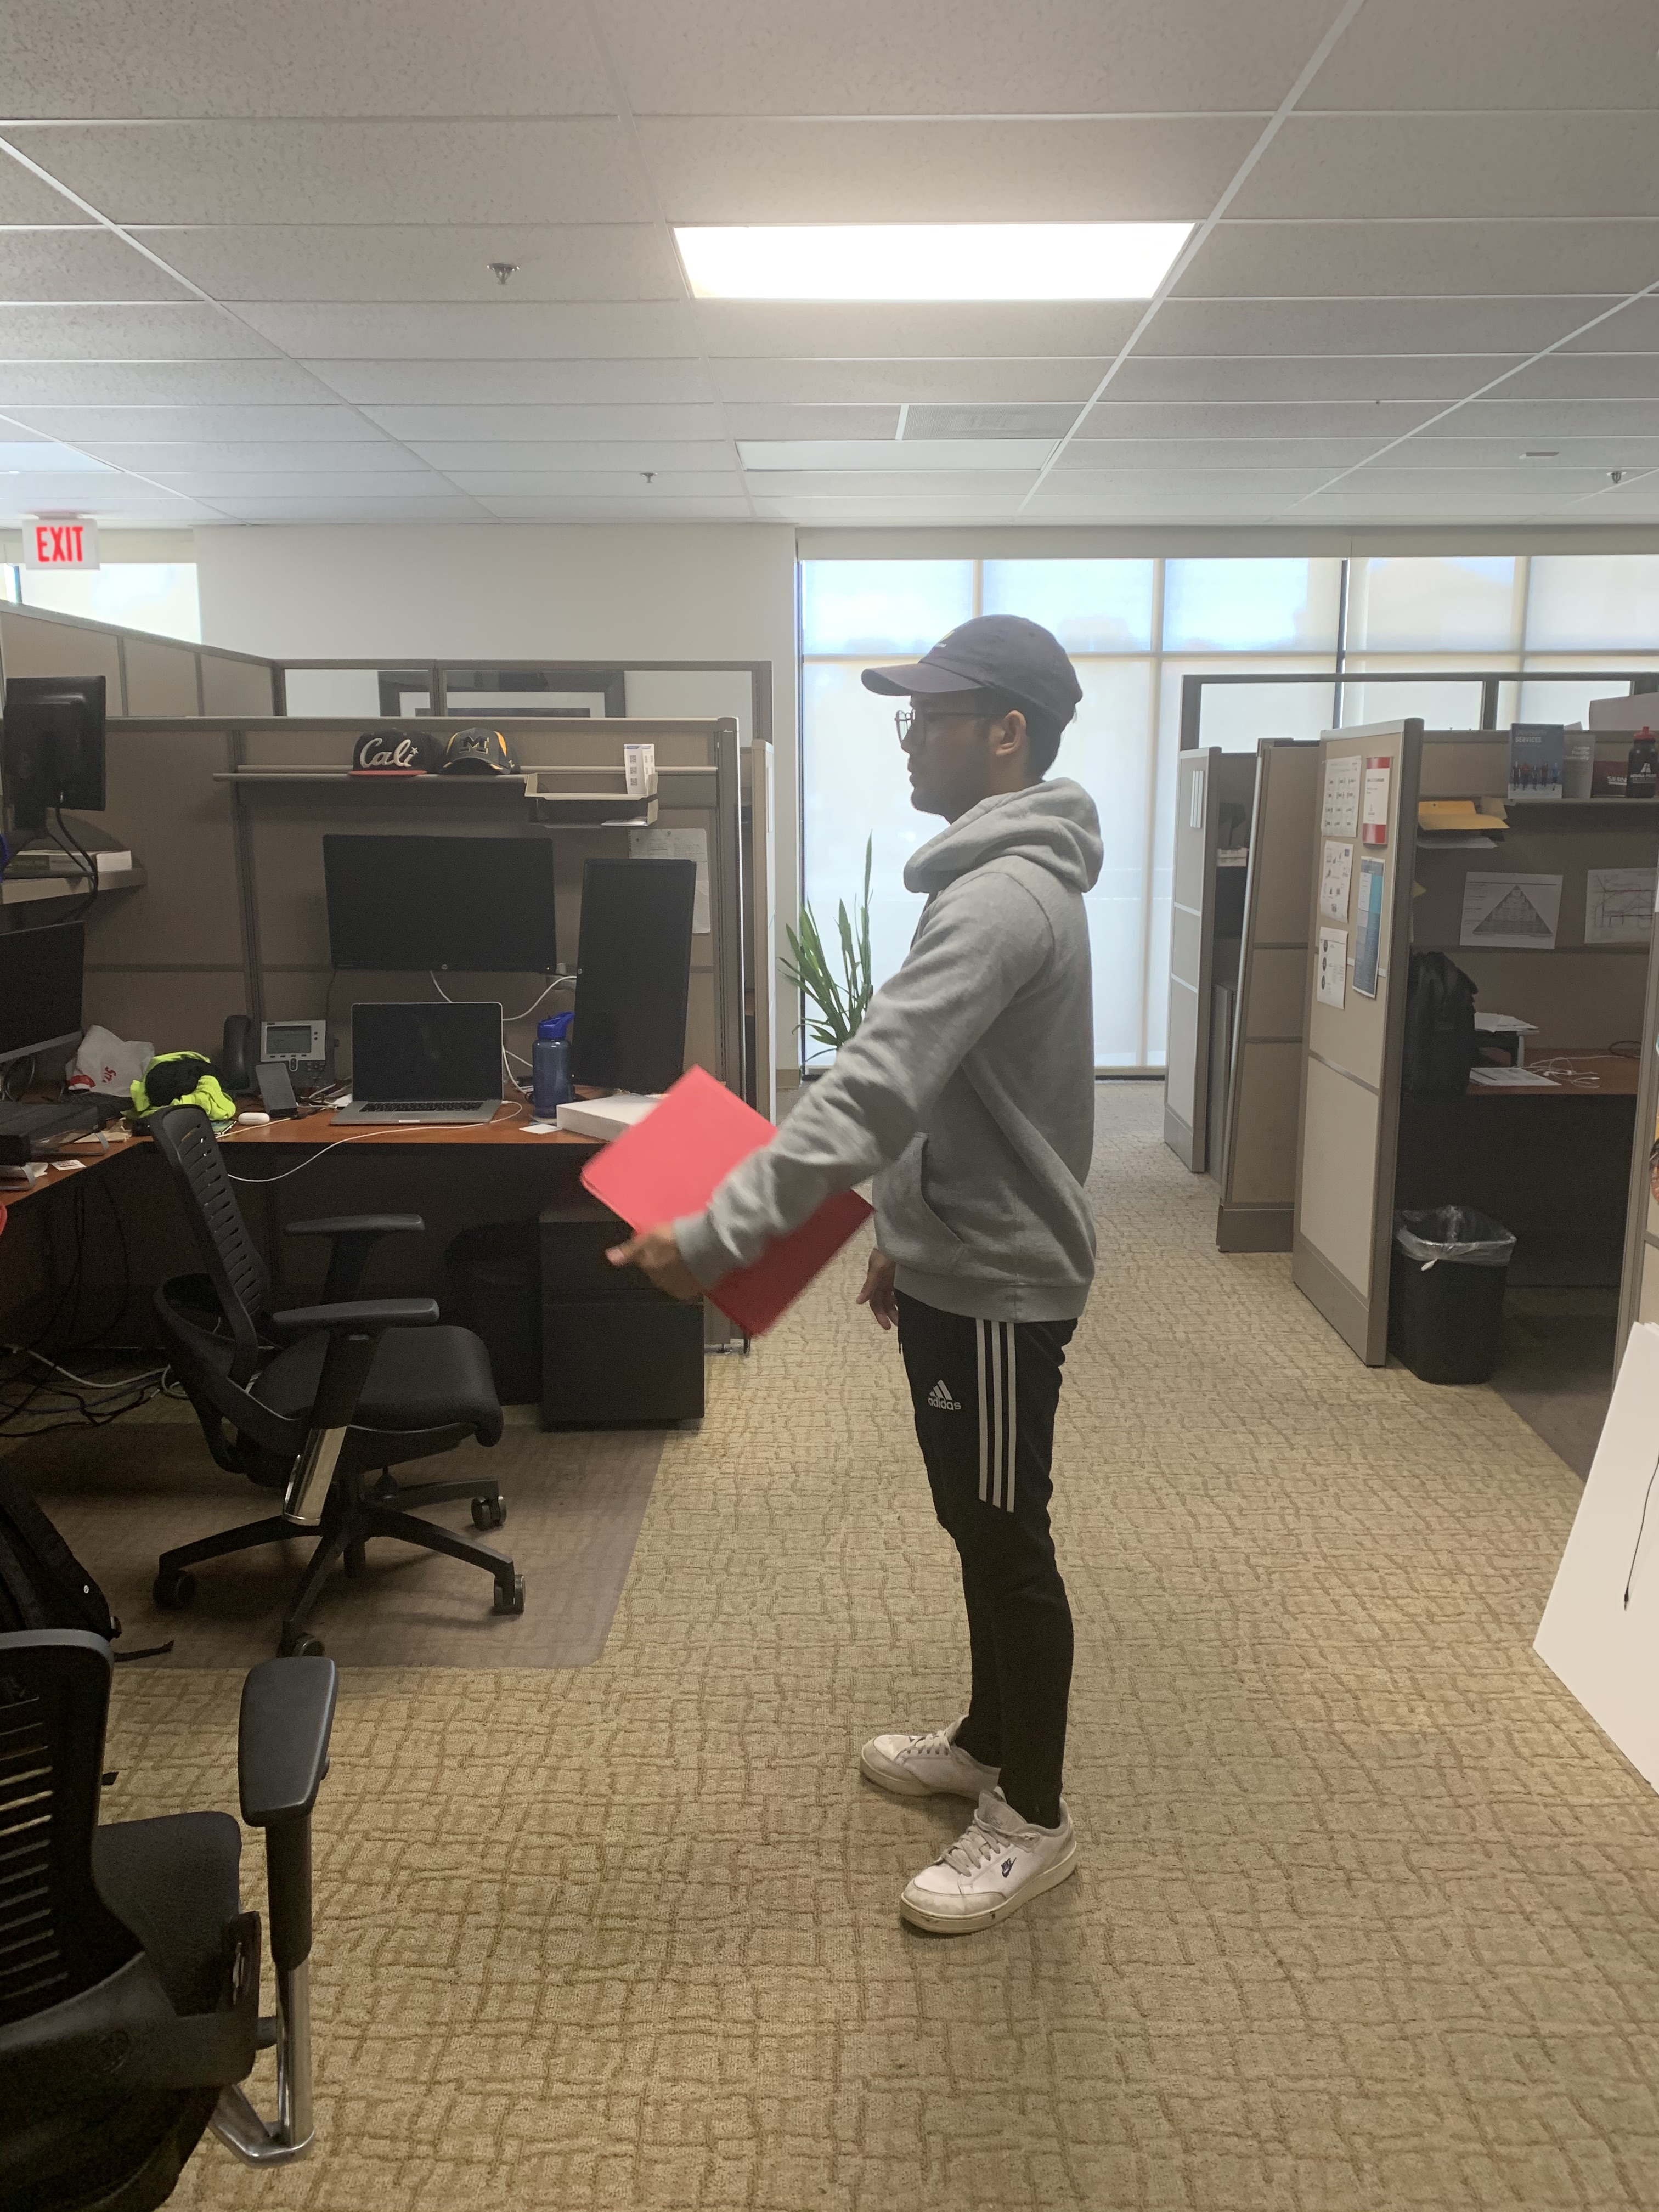red folder: (568, 1054, 894, 1362)
